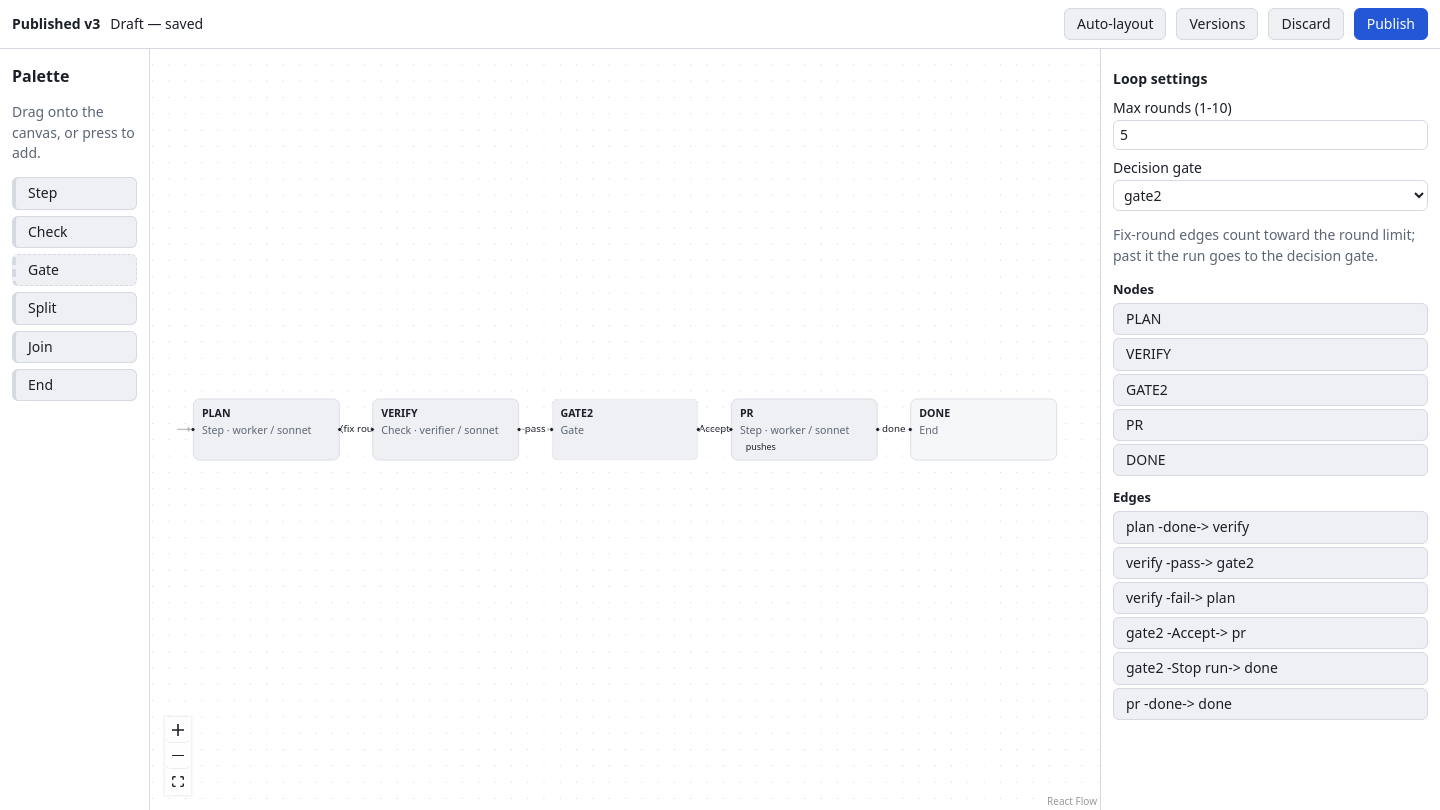
Test case: WorkflowEditor › Versions shows finished runs, average tokens and duration per version
Check: the text "Published v3" is shown, box [12,14,100,34]
Click the button "Versions".
click(1218, 24)  # box [1176,8,1258,40]
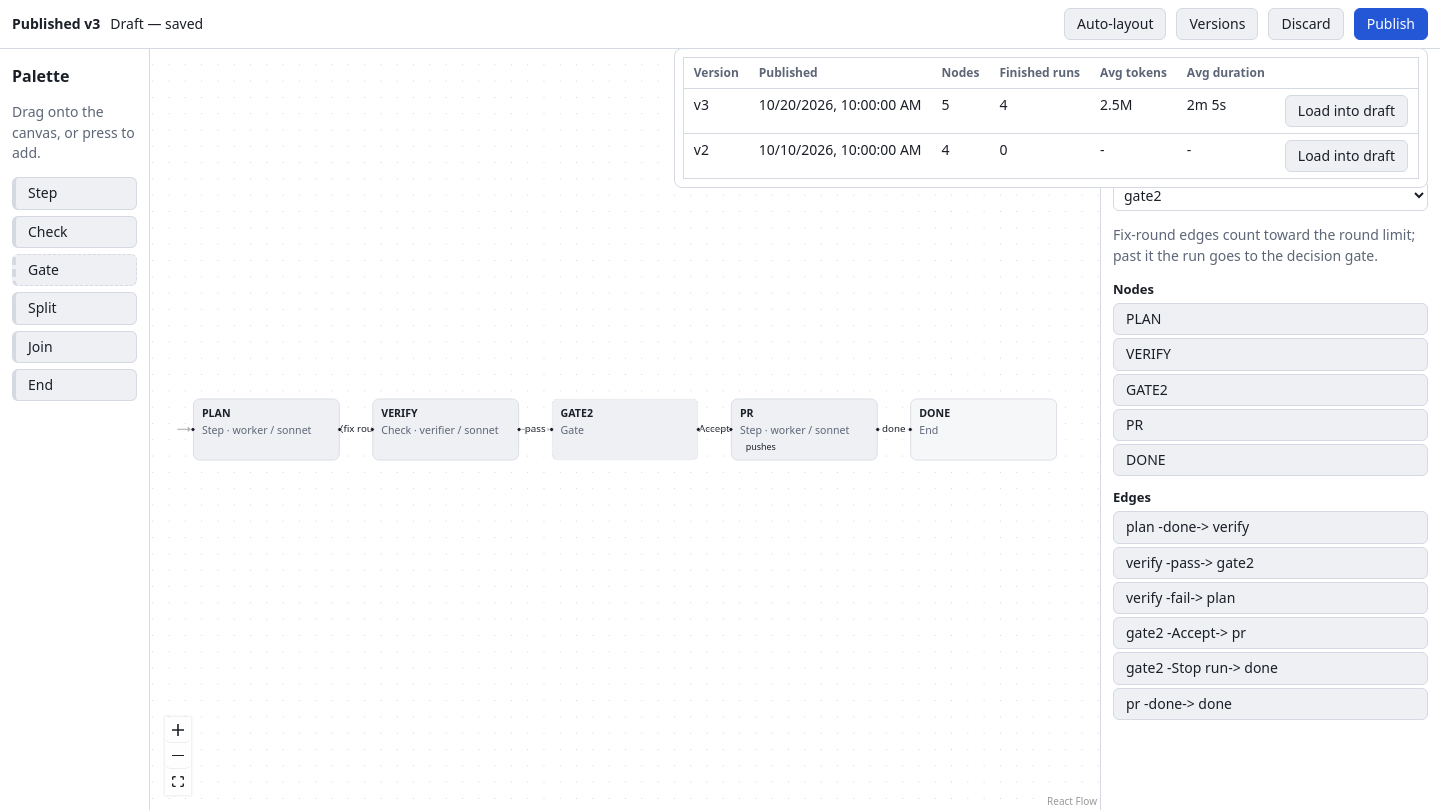
Check: the row "v3 10/20/2026, 10:00:00 AM 5 4 2.5M 2m 5s Load into draft" is shown, box [683,88,1418,134]
Check: the row "v2 10/10/2026, 10:00:00 AM 4 0 - - Load into draft" is shown, box [683,134,1418,179]
